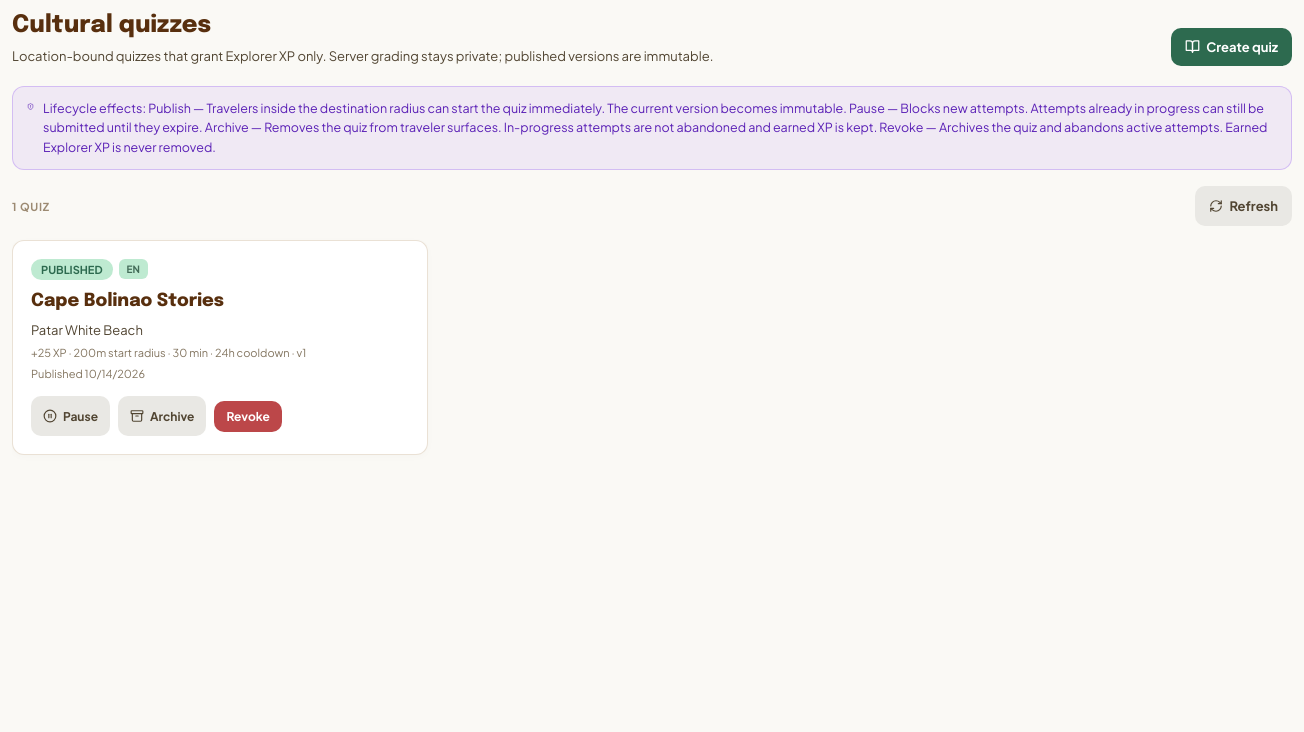
Test: QuizzesPage › requires a reasoned revocation
Click the button "Revoke": (248, 416) [214,401,282,432]
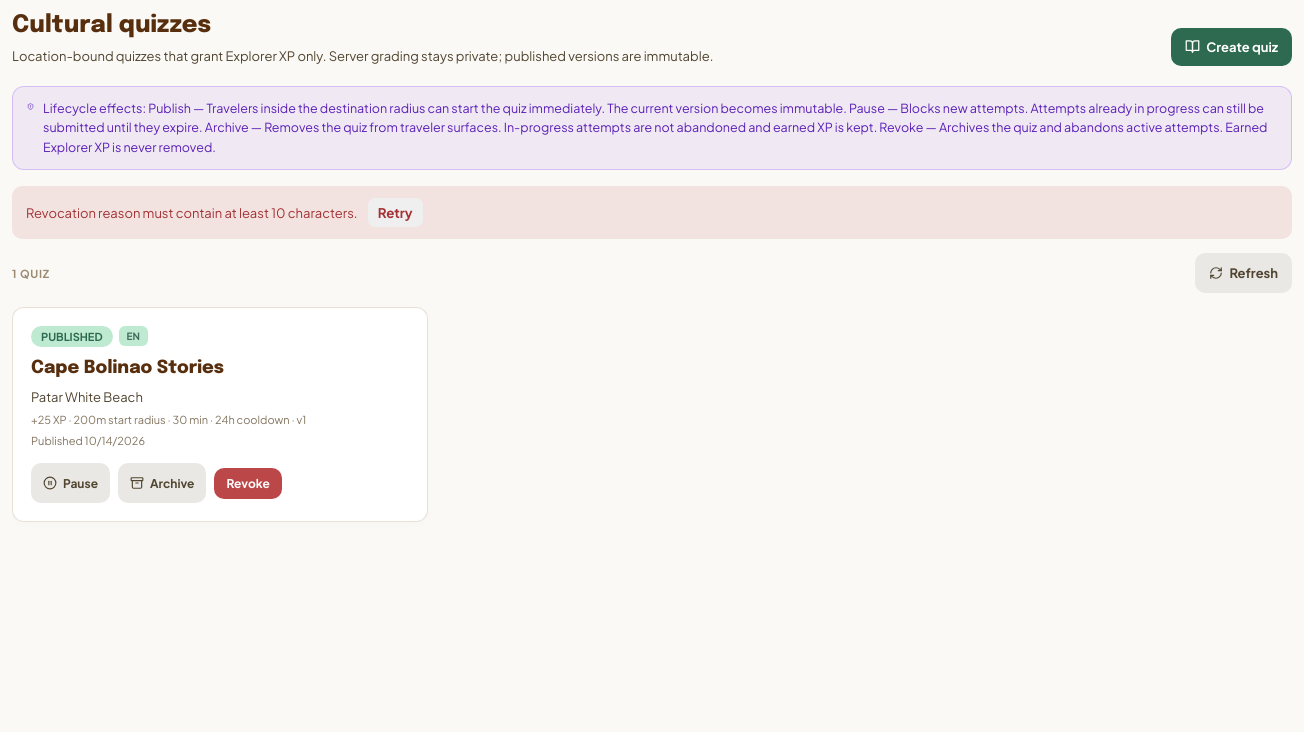
Expected: the message shows "at least 10 characters", [26,205,358,221]
